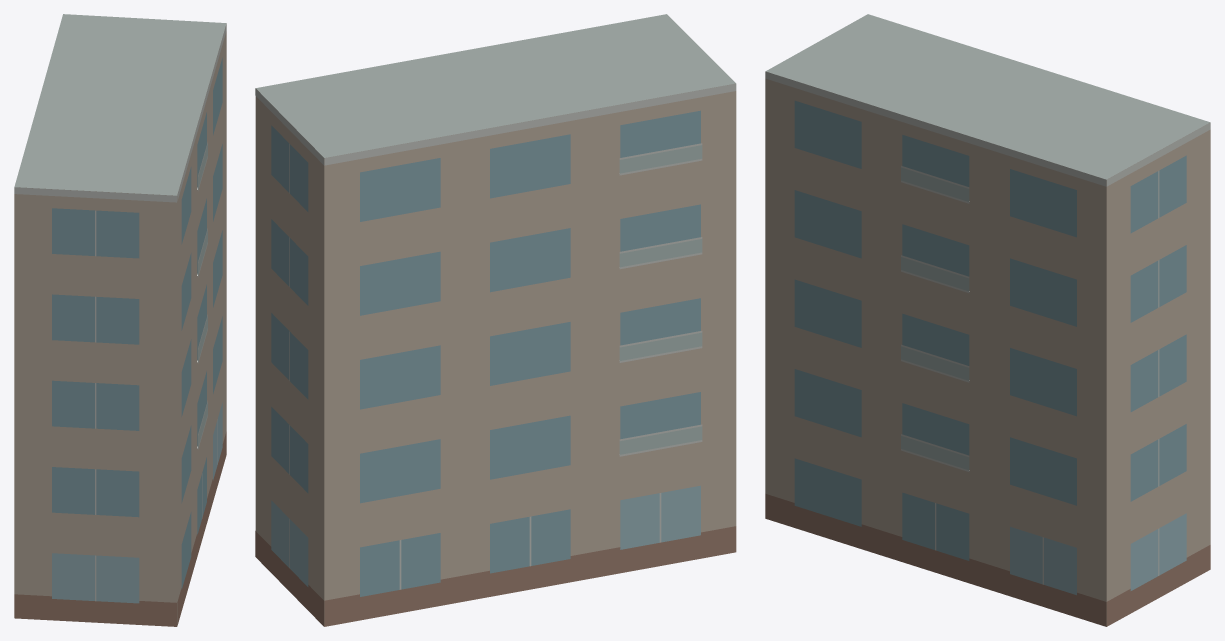
The model's file is survey-upis-32630278.glb.
The picture shows the model from 3 angles, left to right: view 1: azimuth 30°, elevation 25°; view 2: azimuth 150°, elevation 25°; view 3: azimuth 270°, elevation 25°; orthographic projection. The views are drawn at different scales.
Parts seen in each view (by area): view 1: survey-upis-32630278.tmp; view 2: survey-upis-32630278.tmp; view 3: survey-upis-32630278.tmp.
Boxes of the visible parts, x1=… form: survey-upis-32630278.tmp: x1=14, y1=14, x2=226, y2=626; survey-upis-32630278.tmp: x1=255, y1=14, x2=736, y2=626; survey-upis-32630278.tmp: x1=765, y1=14, x2=1210, y2=626.
Size of the model in its own units: 12.12 by 15.25 by 13.77.
